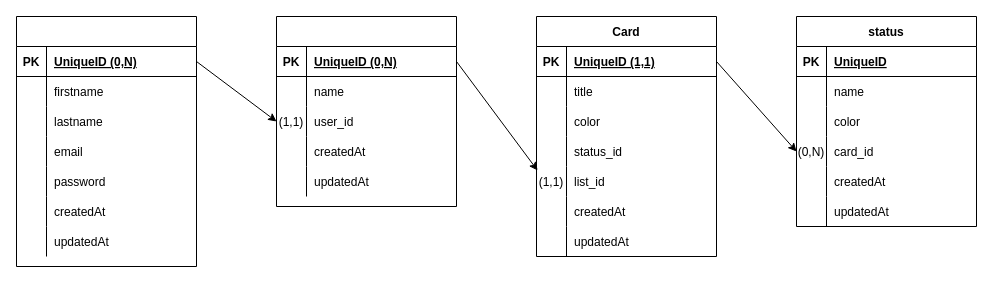
This 993x283 diagram has some shape labels left out. The box of each missing label's shape, as (x1, y1, x2, y2) in pixels:
List: (276, 16, 456, 206)
User: (16, 16, 196, 266)
